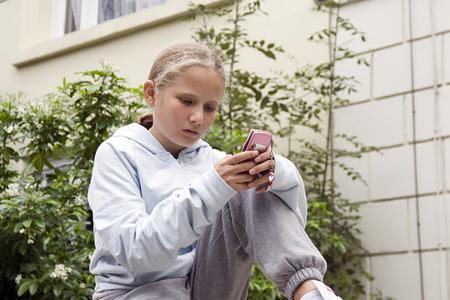person: (87, 42, 342, 300)
